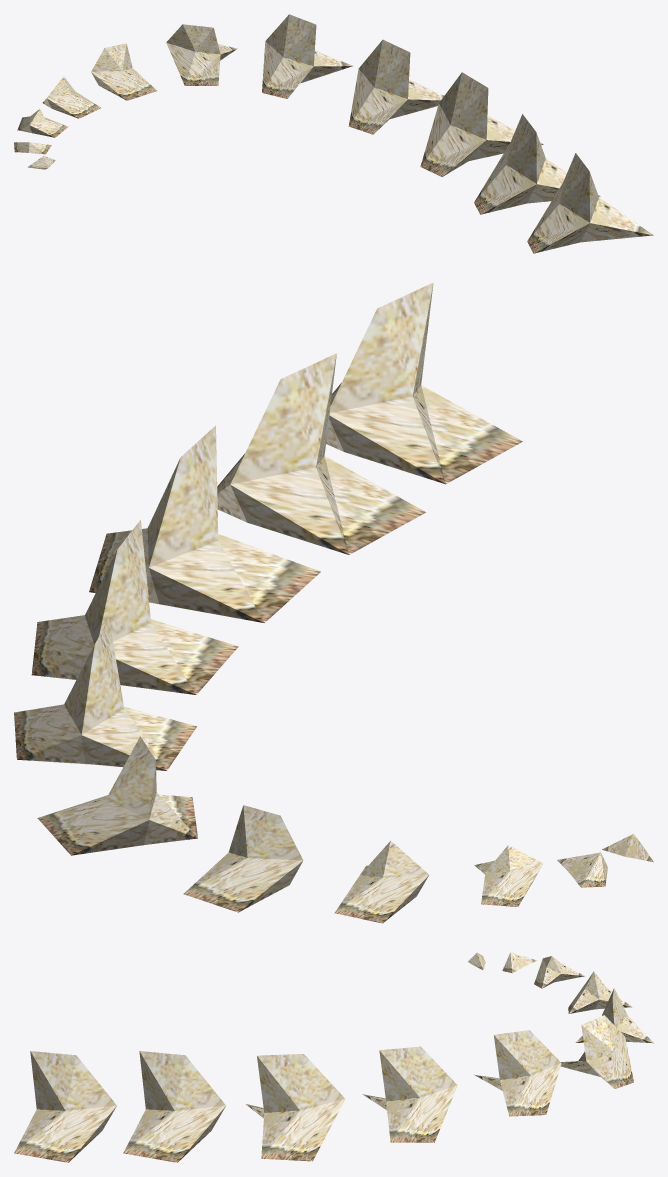
Rendered from poi_tato_skel_krayt_tail_l1.fbx.
The picture shows the model from 3 angles, top to bottom: view 1: azimuth 30°, elevation 25°; view 2: azimuth 150°, elevation 25°; view 3: azimuth 270°, elevation 25°; orthographic projection. The views are drawn at different scales.
Parts seen in each view (by area): view 1: mesh_node; view 2: mesh_node; view 3: mesh_node.
Part boxes in pixels (bbox=[...]): mesh_node: bbox=[14, 14, 653, 253]; mesh_node: bbox=[14, 282, 653, 923]; mesh_node: bbox=[14, 952, 653, 1162].
Bounding box in the file's own units: 4.79 × 0.9668 × 6.32.
Materials: 1 (1 with a texture image).
